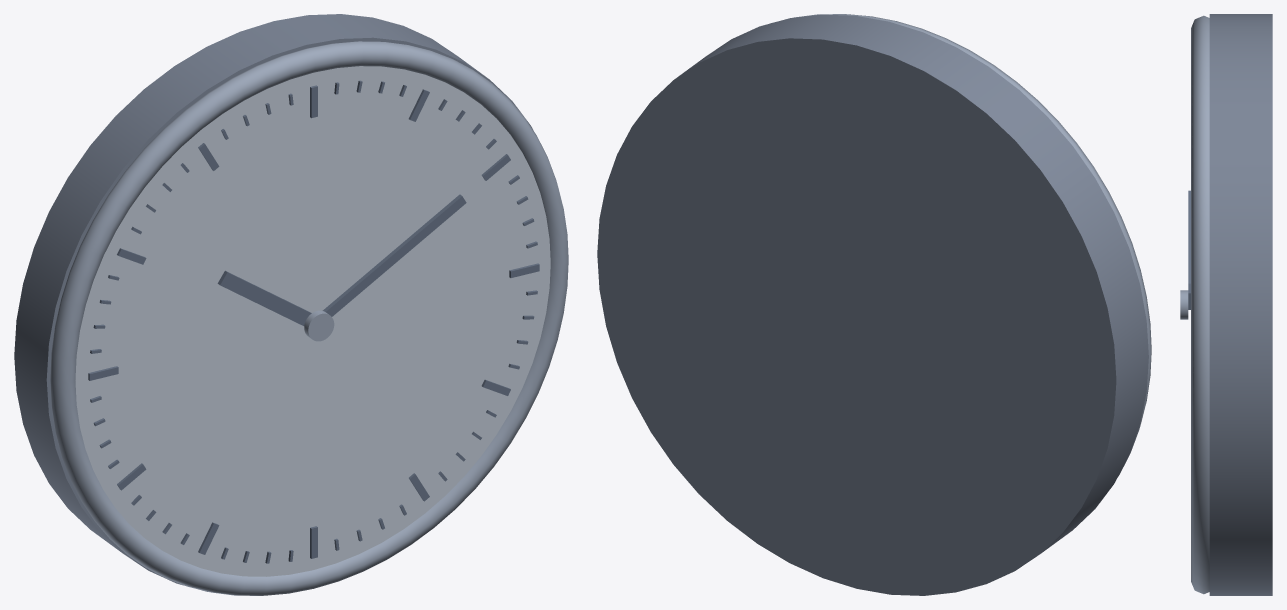
File: wall-clock-lite.glb
3 renders of one model, left to right at view 1: azimuth 30°, elevation 25°; view 2: azimuth 150°, elevation 25°; view 3: azimuth 270°, elevation 25°, orthographic. The views are drawn at different scales.
Parts seen in each view (by area): view 1: wall-clock-light, wall-clock-accent, wall-clock-frame, wall-clock-dark; view 2: wall-clock-frame, wall-clock-accent; view 3: wall-clock-frame, wall-clock-accent, wall-clock-dark.
Boxes of the visible parts, left/top/right/bottom form: wall-clock-light: left=75, top=66, right=550, bottom=576; wall-clock-accent: left=50, top=41, right=568, bottom=595; wall-clock-frame: left=14, top=14, right=532, bottom=591; wall-clock-dark: left=88, top=80, right=539, bottom=563; wall-clock-frame: left=597, top=14, right=1148, bottom=595; wall-clock-accent: left=771, top=14, right=1151, bottom=476; wall-clock-frame: left=1209, top=14, right=1272, bottom=595; wall-clock-accent: left=1180, top=15, right=1209, bottom=594; wall-clock-dark: left=1188, top=190, right=1190, bottom=309.
Size of the model in its own units: 0.36 by 0.36 by 0.057.
